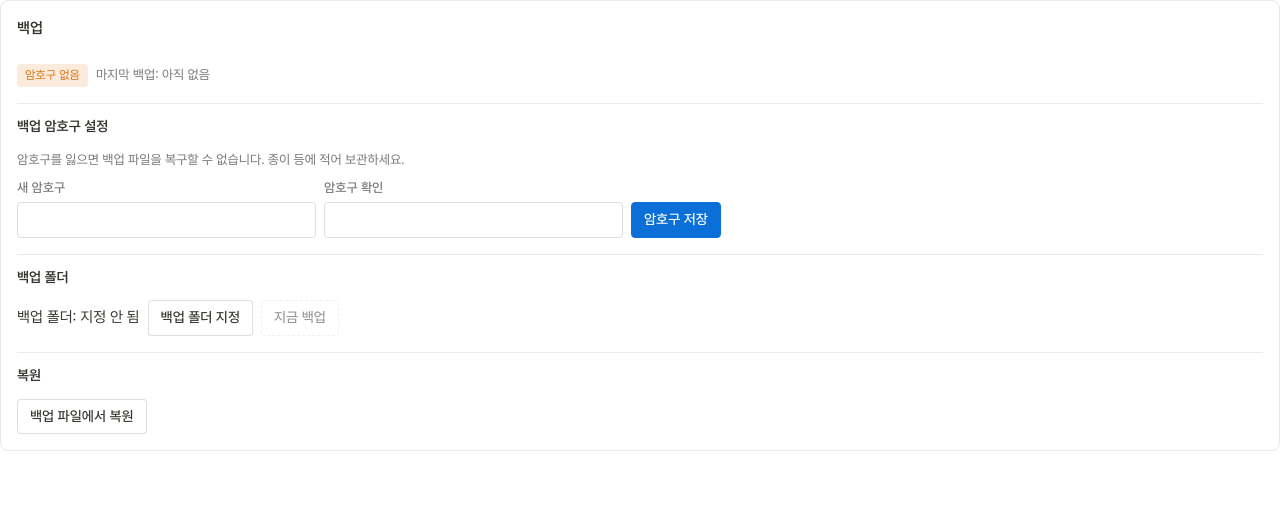
암호구 불일치 문구
The width and height of the screenshot is (1280, 508).
Step 1. Type "우리반암호구2026" into the password field labelled "새 암호구" → (166, 220), box 17,202 -> 316,238
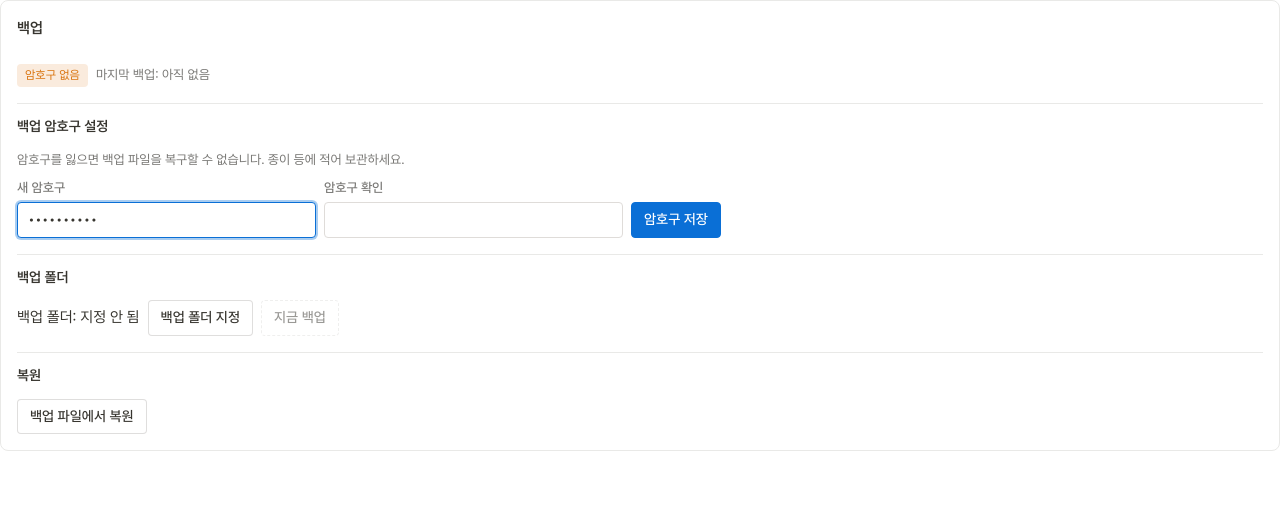
Step 2. Type "우리반암호구2027" into the password field labelled "암호구 확인" → (474, 220), box 324,202 -> 623,238
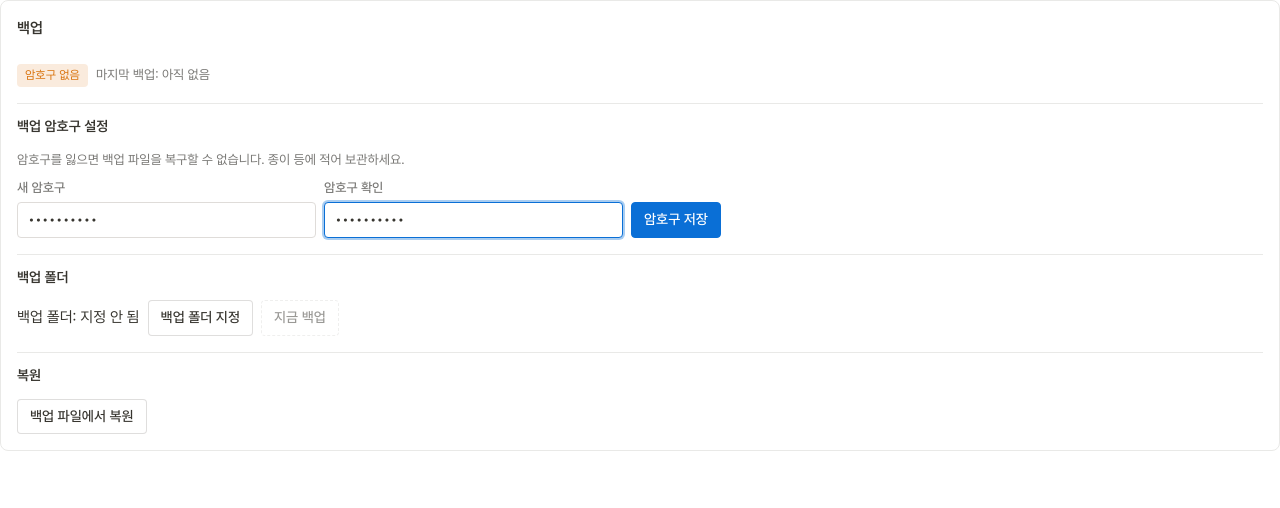
Step 3. Click the button "암호구 저장" → (676, 220), box 631,202 -> 721,238
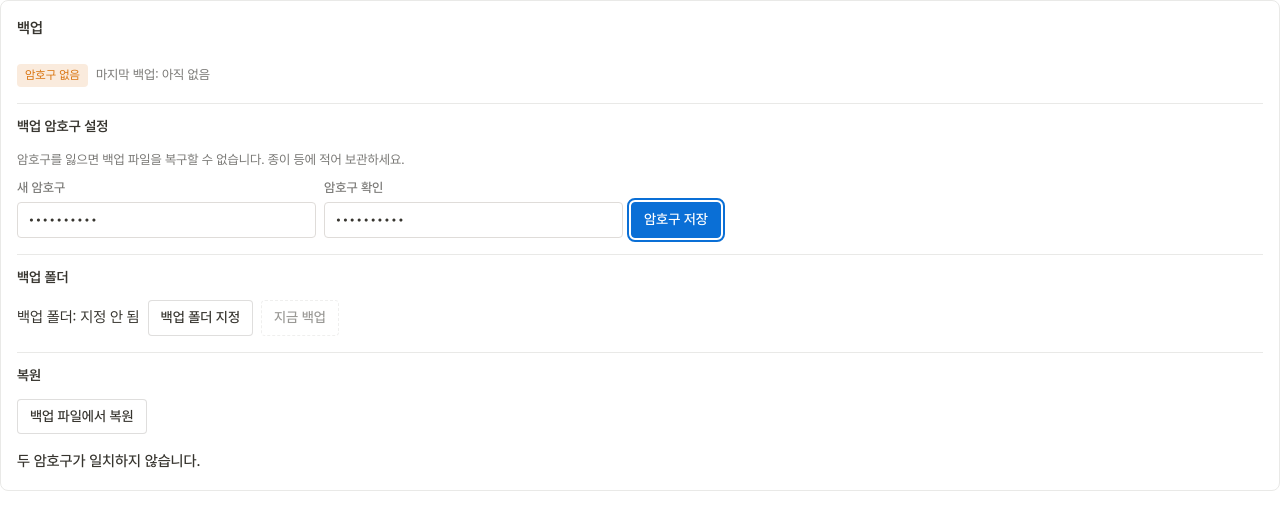
expect the text "두 암호구가 일치하지 않습니다." is shown: met, box 17,450 -> 200,474
